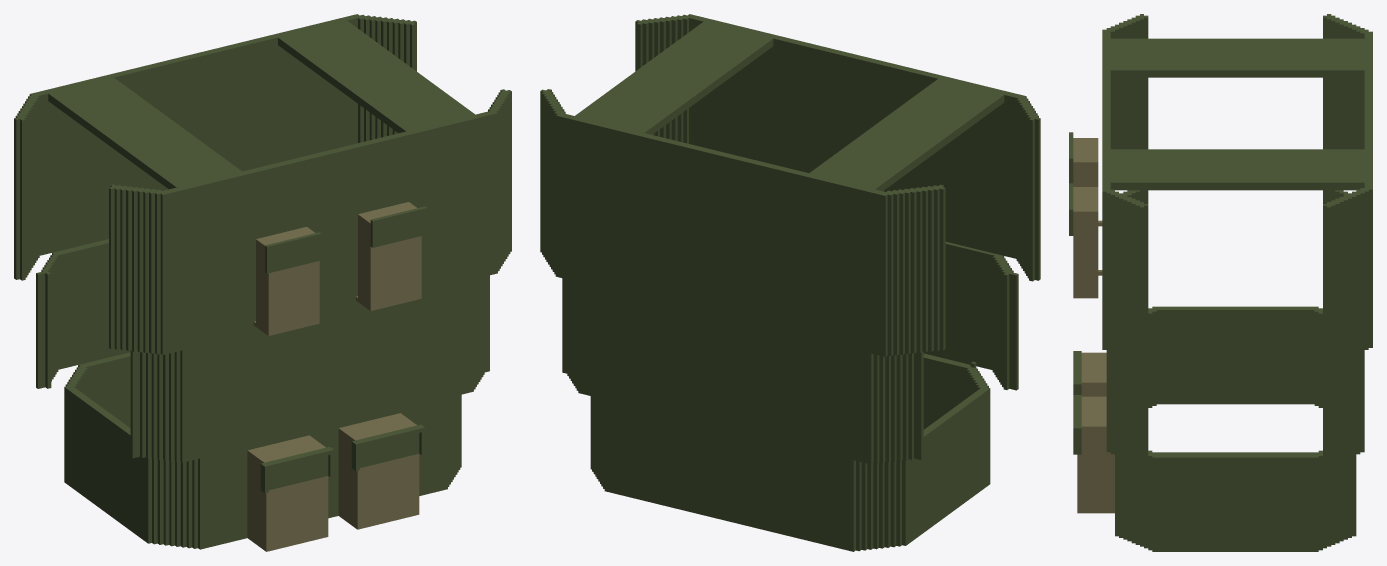
File: utility_vest_worn.glb
3 renders of one model, left to right at view 1: azimuth 30°, elevation 25°; view 2: azimuth 150°, elevation 25°; view 3: azimuth 270°, elevation 25°, orthographic.
Parts seen in each view (by area): view 1: shell:compound; view 2: shell:compound; view 3: shell:compound.
Part boxes in pixels (box(x1,y1,x2,y2)): shell:compound: box(14, 14, 511, 551); shell:compound: box(540, 14, 1040, 551); shell:compound: box(1069, 14, 1372, 551).
Size of the model in its own units: 0.44 by 0.388 by 0.292.
